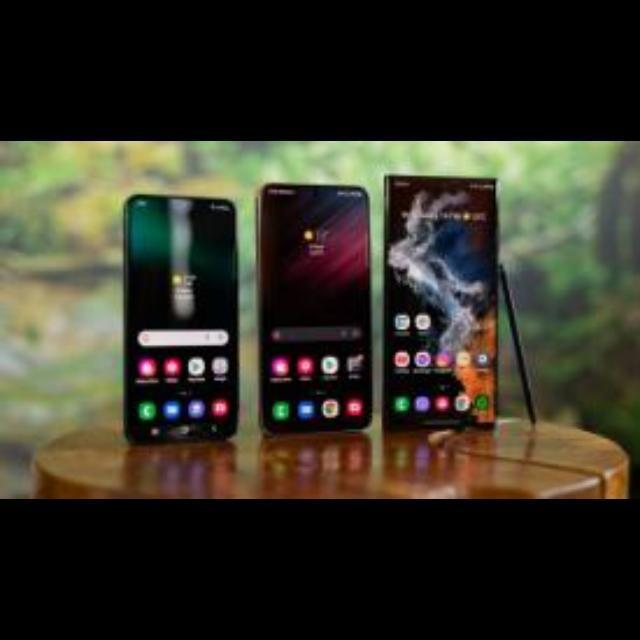PhoneUse: (253, 182, 374, 436), (385, 174, 499, 430), (125, 194, 239, 442)
